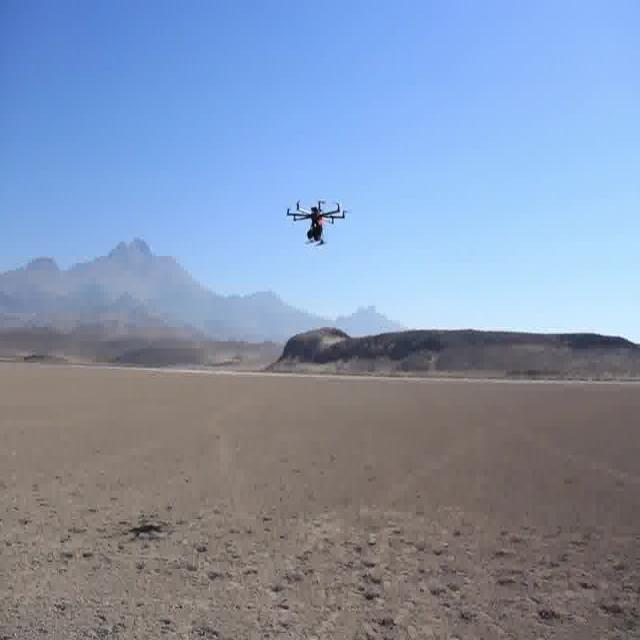Drone_FW: (286, 198, 350, 246)
